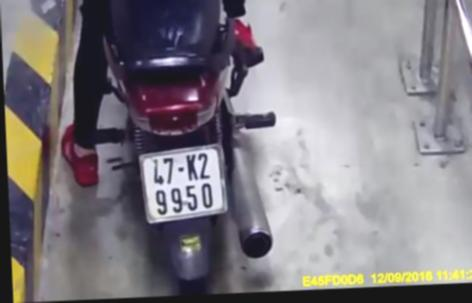License_Plate: (140, 144, 233, 225)
